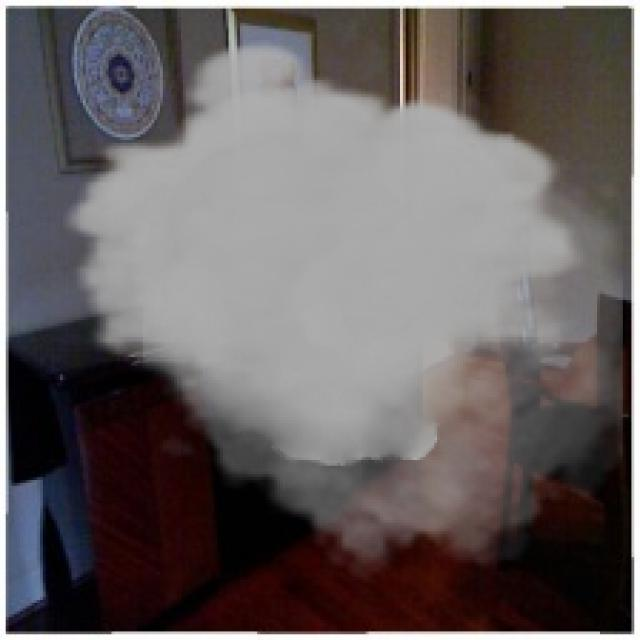smoke: (63, 37, 623, 583)
